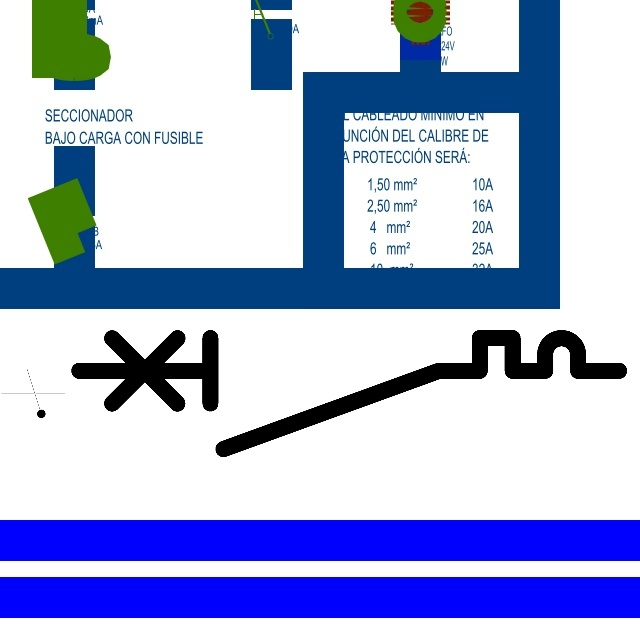interruptor_termomagnetico: (65, 324, 633, 463)
